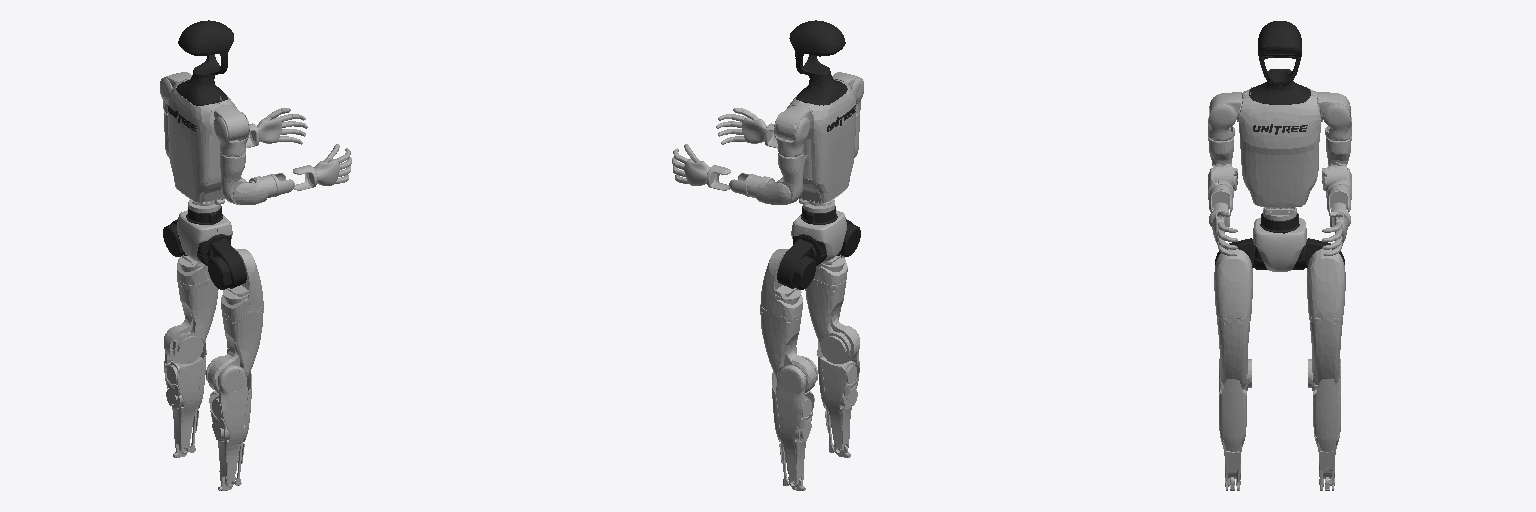
--- Render facts (derived) ---
Views: 3 orthographic renders of the robot side by side, from view 1: azimuth 30°, elevation 25°; view 2: azimuth 150°, elevation 25°; view 3: azimuth 270°, elevation 25°.
Model g1_29dof_rev_1_0 with 39 links and 38 joints (29 revolute, 9 fixed), rooted at base_link, posed all joints at 0.
Visible links, largest first — view 1: torso_link, leg_r4_link, head_link, leg_l4_link, leg_l3_link, leg_r3_link, leg_r2_link, leg_r1_link, pelvis_contour_link, left_rubber_hand, right_rubber_hand, arm_r4_link (+5 smaller); view 2: torso_link, leg_l4_link, head_link, leg_r4_link, leg_r3_link, leg_l3_link, leg_l2_link, leg_l1_link, pelvis_contour_link, right_rubber_hand, left_rubber_hand, arm_l4_link (+5 smaller); view 3: torso_link, head_link, leg_r2_link, leg_l2_link, leg_l4_link, leg_r4_link, leg_l3_link, leg_r3_link, pelvis_contour_link, arm_r3_link, arm_l3_link, arm_l2_link (+4 smaller).
Boxes of the visible links, x1,y1,x2,y2 form: torso_link: [168, 79, 236, 203]; leg_r4_link: [209, 365, 251, 487]; head_link: [176, 20, 233, 105]; leg_l4_link: [164, 326, 206, 453]; leg_l3_link: [164, 278, 218, 363]; leg_r3_link: [205, 306, 263, 392]; leg_r2_link: [221, 248, 263, 317]; leg_r1_link: [207, 239, 246, 289]; pelvis_contour_link: [177, 210, 232, 262]; left_rubber_hand: [257, 108, 307, 144]; right_rubber_hand: [313, 144, 351, 185]; arm_r4_link: [233, 175, 276, 204]; torso_link: [787, 79, 855, 203]; leg_l4_link: [772, 365, 814, 487]; head_link: [789, 20, 847, 105]; leg_r4_link: [817, 326, 859, 453]; leg_r3_link: [805, 278, 859, 363]; leg_l3_link: [760, 304, 817, 392]; leg_l2_link: [760, 249, 802, 317]; leg_l1_link: [777, 239, 816, 289]; pelvis_contour_link: [791, 210, 846, 262]; right_rubber_hand: [716, 108, 766, 144]; left_rubber_hand: [672, 144, 710, 185]; arm_l4_link: [747, 175, 790, 204]; torso_link: [1237, 87, 1322, 207]; head_link: [1249, 21, 1310, 104]; leg_r2_link: [1214, 249, 1252, 318]; leg_l2_link: [1307, 249, 1345, 318]; leg_l4_link: [1313, 359, 1340, 490]; leg_r4_link: [1219, 359, 1246, 490]; leg_l3_link: [1308, 316, 1342, 390]; leg_r3_link: [1217, 316, 1251, 390]; pelvis_contour_link: [1253, 218, 1306, 271]; arm_r3_link: [1208, 137, 1237, 190]; arm_l3_link: [1322, 136, 1351, 190]; arm_l2_link: [1323, 96, 1351, 140].
Size in the robot's own frame: 0.4457 by 0.3632 by 1.29 metres.
Meshes: 35 distinct files referenced, 30 mesh visuals loaded (30 binary STL); not drawn: 5 (reference not matched to a file when rendering).

robot.urdf — g1_29dof_rev_1_0:
<robot name="g1_29dof_rev_1_0">
  <mujoco>
    <compiler discardvisual="false"/>
  </mujoco>

  <!-- [CAUTION] uncomment when convert to mujoco -->
  <!-- <link name="world"></link>
  <joint name="floating_base_joint" type="floating">
    <parent link="world"/>
    <child link="base_link"/>
  </joint> -->

  <link name="base_link">
    <inertial>
      <origin xyz="0 0 -0.07605" rpy="0 0 0"/>
      <mass value="3.813"/>
      <inertia ixx="0.010549" ixy="0" ixz="2.1E-06" iyy="0.0093089" iyz="0" izz="0.0079184"/>
    </inertial>
    <visual>
      <origin xyz="0 0 0" rpy="0 0 0"/>
      <geometry>
        <mesh filename="pelvis.STL"/>
      </geometry>
      <material name="dark">
        <color rgba="0.2 0.2 0.2 1"/>
      </material>
    </visual>
  </link>
  <link name="pelvis_contour_link">
    <inertial>
      <origin xyz="0 0 0" rpy="0 0 0"/>
      <mass value="0.001"/>
      <inertia ixx="1e-7" ixy="0" ixz="0" iyy="1e-7" iyz="0" izz="1e-7"/>
    </inertial>
    <visual>
      <origin xyz="0 0 0" rpy="0 0 0"/>
      <geometry>
        <mesh filename="pelvis_contour_link.STL"/>
      </geometry>
      <material name="white">
        <color rgba="0.7 0.7 0.7 1"/>
      </material>
    </visual>
    <collision>
      <origin xyz="0 0 0" rpy="0 0 0"/>
      <geometry>
        <mesh filename="pelvis_contour_link.STL"/>
      </geometry>
    </collision>
  </link>
  <joint name="pelvis_contour_joint" type="fixed">
    <parent link="base_link"/>
    <child link="pelvis_contour_link"/>
  </joint>

  <!-- Legs -->
  <link name="leg_l1_link">
    <inertial>
      <origin xyz="0.002741 0.047791 -0.02606" rpy="0 0 0"/>
      <mass value="1.35"/>
      <inertia ixx="0.001811" ixy="3.68E-05" ixz="-3.44E-05" iyy="0.0014193" iyz="0.000171" izz="0.0012812"/>
    </inertial>
    <visual>
      <origin xyz="0 0 0" rpy="0 0 0"/>
      <geometry>
        <mesh filename="left_hip_pitch_link.STL"/>
      </geometry>
      <material name="dark">
        <color rgba="0.2 0.2 0.2 1"/>
      </material>
    </visual>
    <collision>
      <origin xyz="0 0 0" rpy="0 0 0"/>
      <geometry>
        <mesh filename="left_hip_pitch_link.STL"/>
      </geometry>
    </collision>
  </link>
  <joint name="leg_l1_joint" type="revolute">
    <origin xyz="0 0.064452 -0.1027" rpy="0 0 0"/>
    <parent link="base_link"/>
    <child link="leg_l1_link"/>
    <axis xyz="0 1 0"/>
    <limit lower="-2.5307" upper="2.8798" effort="88" velocity="32"/>
  </joint>
  <link name="leg_l2_link">
    <inertial>
      <origin xyz="0.029812 -0.001045 -0.087934" rpy="0 0 0"/>
      <mass value="1.52"/>
      <inertia ixx="0.0023773" ixy="-3.8E-06" ixz="-0.0003908" iyy="0.0024123" iyz="1.84E-05" izz="0.0016595"/>
    </inertial>
    <visual>
      <origin xyz="0 0 0" rpy="0 0 0"/>
      <geometry>
        <mesh filename="left_hip_roll_link.STL"/>
      </geometry>
      <material name="white">
        <color rgba="0.7 0.7 0.7 1"/>
      </material>
    </visual>
    <collision>
      <origin xyz="0 0 0" rpy="0 0 0"/>
      <geometry>
        <mesh filename="left_hip_roll_link.STL"/>
      </geometry>
    </collision>
  </link>
  <joint name="leg_l2_joint" type="revolute">
    <origin xyz="0 0.052 -0.030465" rpy="0 -0.1749 0"/>
    <parent link="leg_l1_link"/>
    <child link="leg_l2_link"/>
    <axis xyz="1 0 0"/>
    <limit lower="-0.5236" upper="2.9671" effort="139" velocity="20"/>
  </joint>
  <link name="leg_l3_link">
    <inertial>
      <origin xyz="-0.057709 -0.010981 -0.15078" rpy="0 0 0"/>
      <mass value="1.702"/>
      <inertia ixx="0.0057774" ixy="-0.0005411" ixz="-0.0023948" iyy="0.0076124" iyz="-0.0007072" izz="0.003149"/>
    </inertial>
    <visual>
      <origin xyz="0 0 0" rpy="0 0 0"/>
      <geometry>
        <mesh filename="left_hip_yaw_link.STL"/>
      </geometry>
      <material name="white">
        <color rgba="0.7 0.7 0.7 1"/>
      </material>
    </visual>
    <collision>
      <origin xyz="0 0 0" rpy="0 0 0"/>
      <geometry>
        <mesh filename="left_hip_yaw_link.STL"/>
      </geometry>
    </collision>
  </link>
  <joint name="leg_l3_joint" type="revolute">
    <origin xyz="0.025001 0 -0.12412" rpy="0 0 0"/>
    <parent link="leg_l2_link"/>
    <child link="leg_l3_link"/>
    <axis xyz="0 0 1"/>
    <limit lower="-2.7576" upper="2.7576" effort="88" velocity="32"/>
  </joint>
  <link name="leg_l4_link">
    <inertial>
      <origin xyz="0.005457 0.003964 -0.12074" rpy="0 0 0"/>
      <mass value="1.932"/>
      <inertia ixx="0.011329" ixy="4.82E-05" ixz="-4.49E-05" iyy="0.011277" iyz="-0.0007146" izz="0.0015168"/>
    </inertial>
    <visual>
      <origin xyz="0 0 0" rpy="0 0 0"/>
      <geometry>
        <mesh filename="left_knee_link.STL"/>
      </geometry>
      <material name="white">
        <color rgba="0.7 0.7 0.7 1"/>
      </material>
    </visual>
    <collision>
      <origin xyz="0 0 0" rpy="0 0 0"/>
      <geometry>
        <mesh filename="left_knee_link.STL"/>
      </geometry>
    </collision>
  </link>
  <joint name="leg_l4_joint" type="revolute">
    <origin xyz="-0.078273 0.0021489 -0.17734" rpy="0 0.1749 0"/>
    <parent link="leg_l3_link"/>
    <child link="leg_l4_link"/>
    <axis xyz="0 1 0"/>
    <limit lower="-0.087267" upper="2.8798" effort="139" velocity="20"/>
  </joint>
  <link name="leg_l5_link">
    <inertial>
      <origin xyz="-0.007269 0 0.011137" rpy="0 0 0"/>
      <mass value="0.074"/>
      <inertia ixx="8.4E-06" ixy="0" ixz="-2.9E-06" iyy="1.89E-05" iyz="0" izz="1.26E-05"/>
    </inertial>
    <visual>
      <origin xyz="0 0 0" rpy="0 0 0"/>
      <geometry>
        <mesh filename="left_ankle_pitch_link.STL"/>
      </geometry>
      <material name="white">
        <color rgba="0.7 0.7 0.7 1"/>
      </material>
    </visual>
    <collision>
      <origin xyz="0 0 0" rpy="0 0 0"/>
      <geometry>
        <mesh filename="left_ankle_pitch_link.STL"/>
      </geometry>
    </collision>
  </link>
  <joint name="leg_l5_joint" type="revolute">
    <origin xyz="0 -9.4445E-05 -0.30001" rpy="0 0 0"/>
    <parent link="leg_l4_link"/>
    <child link="leg_l5_link"/>
    <axis xyz="0 1 0"/>
    <limit lower="-0.87267" upper="0.5236" effort="50" velocity="37"/>
  </joint>
  <link name="leg_l6_link">
    <inertial>
      <origin xyz="0.026505 0 -0.016425" rpy="0 0 0"/>
      <mass value="0.608"/>
      <inertia ixx="0.0002231" ixy="2E-07" ixz="8.91E-05" iyy="0.0016161" iyz="-1E-07" izz="0.0016667"/>
    </inertial>
    <visual>
      <origin xyz="0 0 0" rpy="0 0 0"/>
      <geometry>
        <mesh filename="left_ankle_roll_link.STL"/>
      </geometry>
      <material name="dark">
        <color rgba="0.2 0.2 0.2 1"/>
      </material>
    </visual>
    <!-- <collision>
      <origin xyz="0 0 0" rpy="0 0 0"/>
      <geometry>
        <mesh filename="left_ankle_roll_link.STL"/>
      </geometry>
    </collision> -->
    <!-- <collision>
      <origin xyz="-0.05 0.025 -0.03" rpy="0 0 0"/>
      <geometry>
        <sphere radius="0.005"/>
      </geometry>
    </collision>
    <collision>
      <origin xyz="-0.05 -0.025 -0.03" rpy="0 0 0"/>
      <geometry>
        <sphere radius="0.005"/>
      </geometry>
    </collision>
    <collision>
      <origin xyz="0.12 0.03 -0.03" rpy="0 0 0"/>
      <geometry>
        <sphere radius="0.005"/>
      </geometry>
    </collision>
    <collision>
      <origin xyz="0.12 -0.03 -0.03" rpy="0 0 0"/>
      <geometry>
        <sphere radius="0.005"/>
      </geometry>
    </collision> -->

    <!--  HoST collision-->
    <collision>
      <origin xyz="-0.05 0.025 -0.03" rpy="0 0 0"/>
      <geometry>
        <sphere radius="0.005"/>
      </geometry>
    </collision>
    <collision>
      <origin xyz="-0.05 -0.025 -0.03" rpy="0 0 0"/>
      <geometry>
        <sphere radius="0.005"/>
      </geometry>
    </collision>
    <collision>
      <origin xyz="0.12 0.03 -0.03" rpy="0 0 0"/>
      <geometry>
        <sphere radius="0.005"/>
      </geometry>
    </collision>
    <collision>
      <origin xyz="0.12 -0.03 -0.03" rpy="0 0 0"/>
      <geometry>
        <sphere radius="0.005"/>
      </geometry>
    </collision>
    <collision>
      <origin xyz="0.05 -0.035 -0.03" rpy="0 0 0"/>
      <geometry>
        <sphere radius="0.005"/>
      </geometry>
    </collision>
    <collision>
      <origin xyz="0.05 0.035 -0.03" rpy="0 0 0"/>
      <geometry>
        <sphere radius="0.005"/>
      </geometry>
    </collision>

    <collision>
      <origin xyz="0.14 -0.0 -0.03" rpy="0 0 0"/>
      <geometry>
        <sphere radius="0.005"/>
      </geometry>
    </collision>
    <collision>
      <origin xyz="-0.0625 -0.0 -0.03" rpy="0 0 0"/>
      <geometry>
        <sphere radius="0.005"/>
      </geometry>
    </collision>
    <collision>
      <origin xyz="0.1 -0.0 -0.01" rpy="0 0 0"/>
      <geometry>
        <sphere radius="0.005"/>
      </geometry>
    </collision>
  </link>
  <joint name="leg_l6_joint" type="revolute">
    <origin xyz="0 0 -0.017558" rpy="0 0 0"/>
    <parent link="leg_l5_link"/>
    <child link="leg_l6_link"/>
    <axis xyz="1 0 0"/>
    <limit lower="-0.2618" upper="0.2618" effort="50" velocity="37"/>
  </joint>
  <link name="leg_r1_link">
    <inertial>
      <origin xyz="0.002741 -0.047791 -0.02606" rpy="0 0 0"/>
      <mass value="1.35"/>
      <inertia ixx="0.001811" ixy="-3.68E-05" ixz="-3.44E-05" iyy="0.0014193" iyz="-0.000171" izz="0.0012812"/>
    </inertial>
    <visual>
      <origin xyz="0 0 0" rpy="0 0 0"/>
      <geometry>
        <mesh filename="right_hip_pitch_link.STL"/>
      </geometry>
      <material name="dark">
        <color rgba="0.2 0.2 0.2 1"/>
      </material>
    </visual>
    <collision>
      <origin xyz="0 0 0" rpy="0 0 0"/>
      <geometry>
        <mesh filename="right_hip_pitch_link.STL"/>
      </geometry>
    </collision>
  </link>
  <joint name="leg_r1_joint" type="revolute">
    <origin xyz="0 -0.064452 -0.1027" rpy="0 0 0"/>
    <parent link="base_link"/>
    <child link="leg_r1_link"/>
    <axis xyz="0 1 0"/>
    <limit lower="-2.5307" upper="2.8798" effort="88" velocity="32"/>
  </joint>
  <link name="leg_r2_link">
    <inertial>
      <origin xyz="0.029812 0.001045 -0.087934" rpy="0 0 0"/>
      <mass value="1.52"/>
      <inertia ixx="0.0023773" ixy="3.8E-06" ixz="-0.0003908" iyy="0.0024123" iyz="-1.84E-05" izz="0.0016595"/>
    </inertial>
    <visual>
      <origin xyz="0 0 0" rpy="0 0 0"/>
      <geometry>
        <mesh filename="right_hip_roll_link.STL"/>
      </geometry>
      <material name="white">
        <color rgba="0.7 0.7 0.7 1"/>
      </material>
    </visual>
    <collision>
      <origin xyz="0 0 0" rpy="0 0 0"/>
      <geometry>
        <mesh filename="right_hip_roll_link.STL"/>
      </geometry>
    </collision>
  </link>
  <joint name="leg_r2_joint" type="revolute">
    <origin xyz="0 -0.052 -0.030465" rpy="0 -0.1749 0"/>
    <parent link="leg_r1_link"/>
    <child link="leg_r2_link"/>
    <axis xyz="1 0 0"/>
    <limit lower="-2.9671" upper="0.5236" effort="139" velocity="20"/>
  </joint>
  <link name="leg_r3_link">
    <inertial>
      <origin xyz="-0.057709 0.010981 -0.15078" rpy="0 0 0"/>
      <mass value="1.702"/>
      <inertia ixx="0.0057774" ixy="0.0005411" ixz="-0.0023948" iyy="0.0076124" iyz="0.0007072" izz="0.003149"/>
    </inertial>
    <visual>
      <origin xyz="0 0 0" rpy="0 0 0"/>
      <geometry>
        <mesh filename="right_hip_yaw_link.STL"/>
      </geometry>
      <material name="white">
        <color rgba="0.7 0.7 0.7 1"/>
      </material>
    </visual>
    <collision>
      <origin xyz="0 0 0" rpy="0 0 0"/>
      <geometry>
        <mesh filename="right_hip_yaw_link.STL"/>
      </geometry>
    </collision>
  </link>
  <joint name="leg_r3_joint" type="revolute">
    <origin xyz="0.025001 0 -0.12412" rpy="0 0 0"/>
    <parent link="leg_r2_link"/>
    <child link="leg_r3_link"/>
    <axis xyz="0 0 1"/>
    <limit lower="-2.7576" upper="2.7576" effort="88" velocity="32"/>
  </joint>
  <link name="leg_r4_link">
    <inertial>
      <origin xyz="0.005457 -0.003964 -0.12074" rpy="0 0 0"/>
      <mass value="1.932"/>
      <inertia ixx="0.011329" ixy="-4.82E-05" ixz="4.49E-05" iyy="0.011277" iyz="0.0007146" izz="0.0015168"/>
    </inertial>
    <visual>
      <origin xyz="0 0 0" rpy="0 0 0"/>
      <geometry>
        <mesh filename="right_knee_link.STL"/>
      </geometry>
      <material name="white">
        <color rgba="0.7 0.7 0.7 1"/>
      </material>
    </visual>
    <collision>
      <origin xyz="0 0 0" rpy="0 0 0"/>
      <geometry>
        <mesh filename="right_knee_link.STL"/>
      </geometry>
    </collision>
  </link>
  <joint name="leg_r4_joint" type="revolute">
    <origin xyz="-0.078273 -0.0021489 -0.17734" rpy="0 0.1749 0"/>
    <parent link="leg_r3_link"/>
    <child link="leg_r4_link"/>
    <axis xyz="0 1 0"/>
    <limit lower="-0.087267" upper="2.8798" effort="139" velocity="20"/>
  </joint>
  <link name="leg_r5_link">
    <inertial>
      <origin xyz="-0.007269 0 0.011137" rpy="0 0 0"/>
      <mass value="0.074"/>
      <inertia ixx="8.4E-06" ixy="0" ixz="-2.9E-06" iyy="1.89E-05" iyz="0" izz="1.26E-05"/>
    </inertial>
    <visual>
      <origin xyz="0 0 0" rpy="0 0 0"/>
      <geometry>
        <mesh filename="right_ankle_pitch_link.STL"/>
      </geometry>
      <material name="white">
        <color rgba="0.7 0.7 0.7 1"/>
      </material>
    </visual>
    <collision>
      <origin xyz="0 0 0" rpy="0 0 0"/>
      <geometry>
        <mesh filename="right_ankle_pitch_link.STL"/>
      </geometry>
    </collision>
  </link>
  <joint name="leg_r5_joint" type="revolute">
    <origin xyz="0 9.4445E-05 -0.30001" rpy="0 0 0"/>
    <parent link="leg_r4_link"/>
    <child link="leg_r5_link"/>
    <axis xyz="0 1 0"/>
    <limit lower="-0.87267" upper="0.5236" effort="50" velocity="37"/>
  </joint>
  <link name="leg_r6_link">
    <inertial>
      <origin xyz="0.026505 0 -0.016425" rpy="0 0 0"/>
      <mass value="0.608"/>
      <inertia ixx="0.0002231" ixy="-2E-07" ixz="8.91E-05" iyy="0.0016161" iyz="1E-07" izz="0.0016667"/>
    </inertial>
    <visual>
      <origin xyz="0 0 0" rpy="0 0 0"/>
      <geometry>
        <mesh filename="right_ankle_roll_link.STL"/>
      </geometry>
      <material name="dark">
        <color rgba="0.2 0.2 0.2 1"/>
      </material>
    </visual>
    <!-- <collision>
      <origin xyz="0 0 0" rpy="0 0 0"/>
      <geometry>
        <mesh filename="right_ankle_roll_link.STL"/>
      </geometry>
    </collision> -->
    <!-- <collision>
      <origin xyz="-0.05 0.025 -0.03" rpy="0 0 0"/>
      <geometry>
        <sphere radius="0.005"/>
      </geometry>
    </collision>
    <collision>
      <origin xyz="-0.05 -0.025 -0.03" rpy="0 0 0"/>
      <geometry>
        <sphere radius="0.005"/>
      </geometry>
    </collision>
    <collision>
      <origin xyz="0.12 0.03 -0.03" rpy="0 0 0"/>
      <geometry>
        <sphere radius="0.005"/>
      </geometry>
    </collision>
    <collision>
      <origin xyz="0.12 -0.03 -0.03" rpy="0 0 0"/>
      <geometry>
        <sphere radius="0.005"/>
      </geometry>
    </collision> -->

    <!-- HoST collision -->
    <collision>
      <origin xyz="-0.05 0.025 -0.03" rpy="0 0 0"/>
      <geometry>
        <sphere radius="0.005"/>
      </geometry>
    </collision>
    <collision>
      <origin xyz="-0.05 -0.025 -0.03" rpy="0 0 0"/>
      <geometry>
        <sphere radius="0.005"/>
      </geometry>
    </collision>
    <collision>
      <origin xyz="0.12 0.03 -0.03" rpy="0 0 0"/>
      <geometry>
        <sphere radius="0.005"/>
      </geometry>
    </collision>
    <collision>
      <origin xyz="0.12 -0.03 -0.03" rpy="0 0 0"/>
      <geometry>
        <sphere radius="0.005"/>
      </geometry>
    </collision>
    <collision>
      <origin xyz="0.05 -0.035 -0.03" rpy="0 0 0"/>
      <geometry>
        <sphere radius="0.005"/>
      </geometry>
    </collision>
    <collision>
      <origin xyz="0.05 0.035 -0.03" rpy="0 0 0"/>
      <geometry>
        <sphere radius="0.005"/>
      </geometry>
    </collision>

    <collision>
      <origin xyz="0.14 -0.0 -0.03" rpy="0 0 0"/>
      <geometry>
        <sphere radius="0.005"/>
      </geometry>
    </collision>
    <collision>
      <origin xyz="-0.0625 -0.0 -0.03" rpy="0 0 0"/>
      <geometry>
        <sphere radius="0.005"/>
      </geometry>
    </collision>
    <collision>
      <origin xyz="0.1 -0.0 -0.01" rpy="0 0 0"/>
      <geometry>
        <sphere radius="0.005"/>
      </geometry>
    </collision>
  </link>
  <joint name="leg_r6_joint" type="revolute">
    <origin xyz="0 0 -0.017558" rpy="0 0 0"/>
    <parent link="leg_r5_link"/>
    <child link="leg_r6_link"/>
    <axis xyz="1 0 0"/>
    <limit lower="-0.2618" upper="0.2618" effort="50" velocity="37"/>
  </joint>

  <!-- Torso -->
  <link name="waist_yaw_link">
    <inertial>
      <origin xyz="0.003494 0.000233 0.018034" rpy="0 0 0"/>
      <mass value="0.214"/>
      <inertia ixx="0.00010673" ixy="2.703E-06" ixz="-7.631E-06" iyy="0.00010422" iyz="-2.01E-07" izz="0.0001625"/>
    </inertial>
    <visual>
      <origin xyz="0 0 0" rpy="0 0 0"/>
      <geometry>
        <mesh filename="waist_yaw_link_rev_1_0.STL"/>
      </geometry>
      <material name="white">
        <color rgba="0.7 0.7 0.7 1"/>
      </material>
    </visual>
  </link>
  <joint name="waist_yaw_joint" type="revolute">
    <origin xyz="0 0 0" rpy="0 0 0"/>
    <parent link="base_link"/>
    <child link="waist_yaw_link"/>
    <axis xyz="0 0 1"/>
    <limit lower="-2.618" upper="2.618" effort="88" velocity="32"/>
  </joint>
  <link name="waist_roll_link">
    <inertial>
      <origin xyz="0 2.3E-05 0" rpy="0 0 0"/>
      <mass value="0.086"/>
      <inertia ixx="7.079E-06" ixy="0" ixz="0" iyy="6.339E-06" iyz="0" izz="8.245E-06"/>
    </inertial>
    <visual>
      <origin xyz="0 0 0" rpy="0 0 0"/>
      <geometry>
        <mesh filename="waist_roll_link_rev_1_0.STL"/>
      </geometry>
      <material name="white">
        <color rgba="0.7 0.7 0.7 1"/>
      </material>
    </visual>
  </link>
  <joint name="waist_roll_joint" type="revolute">
    <origin xyz="-0.0039635 0 0.044" rpy="0 0 0"/>
    <parent link="waist_yaw_link"/>
    <child link="waist_roll_link"/>
    <axis xyz="1 0 0"/>
    <limit lower="-0.52" upper="0.52" effort="50" velocity="37"/>
  </joint>
  <link name="torso_link">
    <inertial>
      <origin xyz="0.000931 0.000346 0.15082" rpy="0 0 0"/>
      <mass value="6.78"/>
      <inertia ixx="0.05905" ixy="3.3302E-05" ixz="-0.0017715" iyy="0.047014" iyz="-2.2399E-05" izz="0.025652"/>
    </inertial>
    <visual>
      <origin xyz="0 0 0" rpy="0 0 0"/>
      <geometry>
        <mesh filename="torso_link_rev_1_0.STL"/>
      </geometry>
      <material name="white">
        <color rgba="0.7 0.7 0.7 1"/>
      </material>
    </visual>
    <collision>
      <origin xyz="0 0 0" rpy="0 0 0"/>
      <geometry>
        <mesh filename="torso_link_rev_1_0.STL"/>
      </geometry>
    </collision>
  </link>
  <joint name="waist_pitch_joint" type="revolute">
    <origin xyz="0 0 0" rpy="0 0 0"/>
    <parent link="waist_roll_link"/>
    <child link="torso_link"/>
    <axis xyz="0 1 0"/>
    <limit lower="-0.52" upper="0.52" effort="50" velocity="37"/>
  </joint>

  <!-- LOGO -->
  <joint name="logo_joint" type="fixed">
    <origin xyz="0.0039635 0 -0.044" rpy="0 0 0"/>
    <parent link="torso_link"/>
    <child link="logo_link"/>
  </joint>
  <link name="logo_link">
    <inertial>
      <origin xyz="0 0 0" rpy="0 0 0"/>
      <mass value="0.001"/>
      <inertia ixx="1e-7" ixy="0" ixz="0" iyy="1e-7" iyz="0" izz="1e-7"/>
    </inertial>
    <visual>
      <origin xyz="0 0 0" rpy="0 0 0"/>
      <geometry>
        <mesh filename="logo_link.STL"/>
      </geometry>
      <material name="dark">
        <color rgba="0.2 0.2 0.2 1"/>
      </material>
    </visual>
    <collision>
      <origin xyz="0 0 0" rpy="0 0 0"/>
      <geometry>
        <mesh filename="logo_link.STL"/>
      </geometry>
    </collision>
  </link>

  <!-- Head -->
  <link name="head_link">
    <inertial>
      <origin xyz="0.005267 0.000299 0.449869" rpy="0 0 0"/>
      <mass value="1.036"/>
      <inertia ixx="0.004085051" ixy="-2.543E-06" ixz="-6.9455E-05" iyy="0.004185212" iyz="-3.726E-06" izz="0.001807911"/>
    </inertial>
    <visual>
      <origin xyz="0 0 0" rpy="0 0 0"/>
      <geometry>
        <mesh filename="head_link.STL"/>
      </geometry>
      <material name="dark">
        <color rgba="0.2 0.2 0.2 1"/>
      </material>
    </visual>
    <collision>
      <origin xyz="0 0 0" rpy="0 0 0"/>
      <geometry>
        <mesh filename="head_link.STL"/>
      </geometry>
    </collision>
  </link>
  <joint name="head_joint" type="fixed">
    <origin xyz="0.0039635 0 -0.044" rpy="0 0 0"/>
    <parent link="torso_link"/>
    <child link="head_link"/>
  </joint>


  <!-- IMU -->
  <link name="imu_in_torso"></link>
  <joint name="imu_in_torso_joint" type="fixed">
    <origin xyz="-0.03959 -0.00224 0.14792" rpy="0 0 0"/>
    <parent link="torso_link"/>
    <child link="imu_in_torso"/>
  </joint>

  <link name="imu_in_pelvis"></link>
  <joint name="imu_in_pelvis_joint" type="fixed">
    <origin xyz="0.04525 0 -0.08339" rpy="0 0 0"/>
    <parent link="base_link"/>
    <child link="imu_in_pelvis"/>
  </joint>

  <!-- d435 -->
  <link name="d435_link"></link>
  <joint name="d435_joint" type="fixed">
    <origin xyz="0.0576235 0.01753 0.42987" rpy="0 0.8307767239493009 0"/>
    <parent link="torso_link"/>
    <child link="d435_link"/>
  </joint>

  <!-- mid360 -->
  <link name="mid360_link"></link>
  <joint name="mid360_joint" type="fixed">
    <origin xyz="0.0002835 0.00003 0.41618" rpy="0 0.04014257279586953 0"/>
    <parent link="torso_link"/>
    <child link="mid360_link"/>
  </joint>

  <!-- Arm -->
  <link name="arm_l1_link">
    <inertial>
      <origin xyz="0 0.035892 -0.011628" rpy="0 0 0"/>
      <mass value="0.718"/>
      <inertia ixx="0.0004291" ixy="-9.2E-06" ixz="6.4E-06" iyy="0.000453" iyz="2.26E-05" izz="0.000423"/>
    </inertial>
    <visual>
      <origin xyz="0 0 0" rpy="0 0 0"/>
      <geometry>
        <mesh filename="left_shoulder_pitch_link.STL"/>
      </geometry>
      <material name="white">
        <color rgba="0.7 0.7 0.7 1"/>
      </material>
    </visual>
    <collision>
      <origin xyz="0 0.04 -0.01" rpy="0 1.5707963267948966 0"/>
      <geometry>
        <cylinder radius="0.03" length="0.05"/>
      </geometry>
    </collision>
  </link>
  <joint name="arm_l1_joint" type="revolute">
    <origin xyz="0.0039563 0.10022 0.24778" rpy="0.27931 5.4949E-05 -0.00019159"/>
    <parent link="torso_link"/>
    <child link="arm_l1_link"/>
    <axis xyz="0 1 0"/>
    <limit lower="-3.0892" upper="2.6704" effort="25" velocity="37"/>
  </joint>
  <link name="arm_l2_link">
    <inertial>
      <origin xyz="-0.000227 0.00727 -0.063243" rpy="0 0 0"/>
      <mass value="0.643"/>
      <inertia ixx="0.0006177" ixy="-1E-06" ixz="8.7E-06" iyy="0.0006912" iyz="-5.3E-06" izz="0.0003894"/>
    </inertial>
    <visual>
      <origin xyz="0 0 0" rpy="0 0 0"/>
      <geometry>
        <mesh filename="left_shoulder_roll_link.STL"/>
      </geometry>
      <material name="white">
        <color rgba="0.7 0.7 0.7 1"/>
      </material>
    </visual>
    <collision>
      <origin xyz="-0.004 0.006 -0.053" rpy="0 0 0"/>
      <geometry>
        <cylinder radius="0.03" length="0.03"/>
      </geometry>
    </collision>
  </link>
  <joint name="arm_l2_joint" type="revolute">
    <origin xyz="0 0.038 -0.013831" rpy="-0.27925 0 0"/>
    <parent link="arm_l1_link"/>
    <child link="arm_l2_link"/>
    <axis xyz="1 0 0"/>
    <limit lower="-0.2" upper="2.2515" effort="25" velocity="37"/>
  </joint>
  <link name="arm_l3_link">
    <inertial>
      <origin xyz="0.010773 -0.002949 -0.072009" rpy="0 0 0"/>
      <mass value="0.734"/>
      <inertia ixx="0.0009988" ixy="7.9E-06" ixz="0.0001412" iyy="0.0010605" iyz="-2.86E-05" izz="0.0004354"/>
    </inertial>
    <visual>
      <origin xyz="0 0 0" rpy="0 0 0"/>
      <geometry>
        <mesh filename="left_shoulder_yaw_link.STL"/>
      </geometry>
      <material name="white">
        <color rgba="0.7 0.7 0.7 1"/>
      </material>
    </visual>
    <collision>
      <origin xyz="0 0 0" rpy="0 0 0"/>
      <geometry>
        <mesh filename="left_shoulder_yaw_link.STL"/>
      </geometry>
    </collision>
  </link>
  <joint name="arm_l3_joint" type="revolute">
    <origin xyz="0 0.00624 -0.1032" rpy="0 0 0"/>
    <parent link="arm_l2_link"/>
    <child link="arm_l3_link"/>
    <axis xyz="0 0 1"/>
    <limit lower="-2.618" upper="2.618" effort="25" velocity="37"/>
  </joint>
  <link name="arm_l4_link">
    <inertial>
      <origin xyz="0.064956 0.004454 -0.010062" rpy="0 0 0"/>
      <mass value="0.6"/>
      <inertia ixx="0.0002891" ixy="6.53E-05" ixz="1.72E-05" iyy="0.0004152" iyz="-5.6E-06" izz="0.0004197"/>
    </inertial>
    <visual>
      <origin xyz="0 0 0" rpy="0 0 0"/>
      <geometry>
        <mesh filename="left_elbow_link.STL"/>
      </geometry>
      <material name="white">
        <color rgba="0.7 0.7 0.7 1"/>
      </material>
    </visual>
    <collision>
      <origin xyz="0 0 0" rpy="0 0 0"/>
      <geometry>
        <mesh filename="left_elbow_link.STL"/>
      </geometry>
    </collision>
  </link>
  <joint name="arm_l4_joint" type="revolute">
    <origin xyz="0.015783 0 -0.080518" rpy="0 0 0"/>
    <parent link="arm_l3_link"/>
    <child link="arm_l4_link"/>
    <axis xyz="0 1 0"/>
    <limit lower="-1.0472" upper="2.0944" effort="25" velocity="37"/>
  </joint>
  <joint name="arm_l5_joint" type="revolute">
    <origin xyz="0.100 0.00188791 -0.010" rpy="0 0 0"/>
    <axis xyz="1 0 0"/>
    <parent link="arm_l4_link"/>
    <child link="arm_l5_link"/>
    <limit effort="25" velocity="37" lower="-1.972222054" upper="1.972222054"/>
  </joint>
  <link name="arm_l5_link">
    <inertial>
      <origin xyz="0.01713944778 0.00053759094 0.00000048864" rpy="0 0 0"/>
      <mass value="0.08544498"/>
      <inertia ixx="0.00004821544023" ixy="-0.00000424511021" ixz="0.00000000510599" iyy="0.00003722899093" iyz="-0.00000000123525" izz="0.00005482106541"/>
    </inertial>
    <visual>
      <origin xyz="0 0 0" rpy="0 0 0"/>
      <geometry>
        <mesh filename="left_wrist_roll_link.STL"/>
      </geometry>
      <material name="white">
        <color rgba="0.7 0.7 0.7 1"/>
      </material>
    </visual>
    <collision>
      <origin xyz="0 0 0" rpy="0 0 0"/>
      <geometry>
        <mesh filename="left_wrist_roll_link.STL"/>
      </geometry>
    </collision>
  </link>
  <joint name="arm_l6_joint" type="revolute">
    <origin xyz="0.038 0 0" rpy="0 0 0"/>
    <axis xyz="0 1 0"/>
    <parent link="arm_l5_link"/>
    <child link="arm_l6_link"/>
    <limit effort="5" velocity="22" lower="-1.614429558" upper="1.614429558"/>
  </joint>
  <link name="arm_l6_link">
    <inertial>
      <origin xyz="0.02299989837 -0.00111685314 -0.00111658096" rpy="0 0 0"/>
      <mass value="0.48404956"/>
      <inertia ixx="0.00016579646273" ixy="-0.00001231206746" ixz="0.00001231699194" iyy="0.00042954057410" iyz="0.00000081417712" izz="0.00042953697654"/>
    </inertial>
    <visual>
      <origin xyz="0 0 0" rpy="0 0 0"/>
      <geometry>
        <mesh filename="left_wrist_pitch_link.STL"/>
      </geometry>
      <material name="white">
        <color rgba="0.7 0.7 0.7 1"/>
      </material>
    </visual>
    <collision>
      <origin xyz="0 0 0" rpy="0 0 0"/>
      <geometry>
        <mesh filename="left_wrist_pitch_link.STL"/>
      </geometry>
    </collision>
  </link>
  <joint name="arm_l7_joint" type="revolute">
    <origin xyz="0.046 0 0" rpy="0 0 0"/>
    <axis xyz="0 0 1"/>
    <parent link="arm_l6_link"/>
    <child link="arm_l7_link"/>
    <limit effort="5" velocity="22" lower="-1.614429558" upper="1.614429558"/>
  </joint>
  <link name="arm_l7_link">
    <inertial>
      <origin xyz="0.02200381568 0.00049485096 0.00053861123" rpy="0 0 0"/>
      <mass value="0.08457647"/>
      <inertia ixx="0.00004929128828" ixy="-0.00000045735494" ixz="0.00000445867591" iyy="0.00005973338134" iyz="0.00000043217198" izz="0.00003928083826"/>
    </inertial>
    <visual>
      <origin xyz="0 0 0" rpy="0 0 0"/>
      <geometry>
        <mesh filename="left_wrist_yaw_link.STL"/>
      </geometry>
      <material name="white">
        <color rgba="0.7 0.7 0.7 1"/>
      </material>
    </visual>
    <collision>
      <origin xyz="0 0 0" rpy="0 0 0"/>
      <geometry>
        <mesh filename="left_wrist_yaw_link.STL"/>
      </geometry>
    </collision>
  </link>
  <joint name="left_hand_palm_joint" type="fixed">
    <origin xyz="0.0415 0.003 0" rpy="0 0 0"/>
    <parent link="arm_l7_link"/>
    <child link="left_rubber_hand"/>
  </joint>
  <link name="left_rubber_hand">
    <inertial>
      <origin xyz="0.05361310808 -0.00295905240 0.00215413091" rpy="0 0 0"/>
      <mass value="0.170"/>
      <inertia ixx="0.00010099485234748" ixy="0.00003618590790516" ixz="-0.00000074301518642" iyy="0.00028135871571621" iyz="0.00000330189743286" izz="0.00021894770413514"/>
    </inertial>
    <visual>
      <origin xyz="0 0 0" rpy="0 0 0"/>
      <geometry>
        <mesh filename="left_rubber_hand.STL"/>
      </geometry>
      <material name="white">
        <color rgba="0.7 0.7 0.7 1"/>
      </material>
    </visual>
    <collision>
      <origin xyz="0 0 0" rpy="0 0 0"/>
      <geometry>
        <mesh filename="left_rubber_hand.STL"/>
      </geometry>
    </collision>
  </link>
  <link name="arm_r1_link">
    <inertial>
      <origin xyz="0 -0.035892 -0.011628" rpy="0 0 0"/>
      <mass value="0.718"/>
      <inertia ixx="0.0004291" ixy="9.2E-06" ixz="6.4E-06" iyy="0.000453" iyz="-2.26E-05" izz="0.000423"/>
    </inertial>
    <visual>
      <origin xyz="0 0 0" rpy="0 0 0"/>
      <geometry>
        <mesh filename="right_shoulder_pitch_link.STL"/>
      </geometry>
      <material name="white">
        <color rgba="0.7 0.7 0.7 1"/>
      </material>
    </visual>
    <collision>
      <origin xyz="0 -0.04 -0.01" rpy="0 1.5707963267948966 0"/>
      <geometry>
        <cylinder radius="0.03" length="0.05"/>
      </geometry>
    </collision>
  </link>
  <joint name="arm_r1_joint" type="revolute">
    <origin xyz="0.0039563 -0.10021 0.24778" rpy="-0.27931 5.4949E-05 0.00019159"/>
    <parent link="torso_link"/>
    <child link="arm_r1_link"/>
    <axis xyz="0 1 0"/>
    <limit lower="-3.0892" upper="2.6704" effort="25" velocity="37"/>
  </joint>
  <link name="arm_r2_link">
    <inertial>
      <origin xyz="-0.000227 -0.00727 -0.063243" rpy="0 0 0"/>
      <mass value="0.643"/>
      <inertia ixx="0.0006177" ixy="1E-06" ixz="8.7E-06" iyy="0.0006912" iyz="5.3E-06" izz="0.0003894"/>
    </inertial>
    <visual>
      <origin xyz="0 0 0" rpy="0 0 0"/>
      <geometry>
        <mesh filename="right_shoulder_roll_link.STL"/>
      </geometry>
      <material name="white">
        <color rgba="0.7 0.7 0.7 1"/>
      </material>
    </visual>
    <collision>
      <origin xyz="-0.004 -0.006 -0.053" rpy="0 0 0"/>
      <geometry>
        <cylinder radius="0.03" length="0.03"/>
      </geometry>
    </collision>
  </link>
  <joint name="arm_r2_joint" type="revolute">
    <origin xyz="0 -0.038 -0.013831" rpy="0.27925 0 0"/>
    <parent link="arm_r1_link"/>
    <child link="arm_r2_link"/>
    <axis xyz="1 0 0"/>
    <limit lower="-2.2515" upper="0.2" effort="25" velocity="37"/>
  </joint>
  <link name="arm_r3_link">
    <inertial>
      <origin xyz="0.010773 0.002949 -0.072009" rpy="0 0 0"/>
      <mass value="0.734"/>
      <inertia ixx="0.0009988" ixy="-7.9E-06" ixz="0.0001412" iyy="0.0010605" iyz="2.86E-05" izz="0.0004354"/>
    </inertial>
    <visual>
      <origin xyz="0 0 0" rpy="0 0 0"/>
      <geometry>
        <mesh filename="right_shoulder_yaw_link.STL"/>
      </geometry>
      <material name="white">
        <color rgba="0.7 0.7 0.7 1"/>
      </material>
    </visual>
    <collision>
      <origin xyz="0 0 0" rpy="0 0 0"/>
      <geometry>
        <mesh filename="right_shoulder_yaw_link.STL"/>
      </geometry>
    </collision>
  </link>
  <joint name="arm_r3_joint" type="revolute">
    <origin xyz="0 -0.00624 -0.1032" rpy="0 0 0"/>
    <parent link="arm_r2_link"/>
    <child link="arm_r3_link"/>
    <axis xyz="0 0 1"/>
    <limit lower="-2.618" upper="2.618" effort="25" velocity="37"/>
  </joint>
  <link name="arm_r4_link">
    <inertial>
      <origin xyz="0.064956 -0.004454 -0.010062" rpy="0 0 0"/>
      <mass value="0.6"/>
      <inertia ixx="0.0002891" ixy="-6.53E-05" ixz="1.72E-05" iyy="0.0004152" iyz="5.6E-06" izz="0.0004197"/>
    </inertial>
    <visual>
      <origin xyz="0 0 0" rpy="0 0 0"/>
      <geometry>
        <mesh filename="right_elbow_link.STL"/>
      </geometry>
      <material name="white">
        <color rgba="0.7 0.7 0.7 1"/>
      </material>
    </visual>
    <collision>
      <origin xyz="0 0 0" rpy="0 0 0"/>
      <geometry>
        <mesh filename="right_elbow_link.STL"/>
      </geometry>
    </collision>
  </link>
  <joint name="arm_r4_joint" type="revolute">
    <origin xyz="0.015783 0 -0.080518" rpy="0 0 0"/>
    <parent link="arm_r3_link"/>
    <child link="arm_r4_link"/>
    <axis xyz="0 1 0"/>
    <limit lower="-1.0472" upper="2.0944" effort="25" velocity="37"/>
  </joint>
  <joint name="arm_r5_joint" type="revolute">
    <origin xyz="0.100 -0.00188791 -0.010" rpy="0 0 0"/>
    <axis xyz="1 0 0"/>
    <parent link="arm_r4_link"/>
    <child link="arm_r5_link"/>
    <limit effort="25" velocity="37" lower="-1.972222054" upper="1.972222054"/>
  </joint>
  <link name="arm_r5_link">
    <inertial>
      <origin xyz="0.01713944778 -0.00053759094 0.00000048864" rpy="0 0 0"/>
      <mass value="0.08544498"/>
      <inertia ixx="0.00004821544023" ixy="0.00000424511021" ixz="0.00000000510599" iyy="0.00003722899093" iyz="0.00000000123525" izz="0.00005482106541"/>
    </inertial>
    <visual>
      <origin xyz="0 0 0" rpy="0 0 0"/>
      <geometry>
        <mesh filename="right_wrist_roll_link.STL"/>
      </geometry>
      <material name="white">
        <color rgba="0.7 0.7 0.7 1"/>
      </material>
    </visual>
    <collision>
      <origin xyz="0 0 0" rpy="0 0 0"/>
      <geometry>
        <mesh filename="right_wrist_roll_link.STL"/>
      </geometry>
    </collision>
  </link>
  <joint name="arm_r6_joint" type="revolute">
    <origin xyz="0.038 0 0" rpy="0 0 0"/>
    <axis xyz="0 1 0"/>
    <parent link="arm_r5_link"/>
    <child link="arm_r6_link"/>
    <limit effort="5" velocity="22" lower="-1.614429558" upper="1.614429558"/>
  </joint>
  <link name="arm_r6_link">
    <inertial>
      <origin xyz="0.02299989837 0.00111685314 -0.00111658096" rpy="0 0 0"/>
      <mass value="0.48404956"/>
      <inertia ixx="0.00016579646273" ixy="0.00001231206746" ixz="0.00001231699194" iyy="0.00042954057410" iyz="-0.00000081417712" izz="0.00042953697654"/>
    </inertial>
    <visual>
      <origin xyz="0 0 0" rpy="0 0 0"/>
      <geometry>
        <mesh filename="right_wrist_pitch_link.STL"/>
      </geometry>
      <material name="white">
        <color rgba="0.7 0.7 0.7 1"/>
      </material>
    </visual>
    <collision>
      <origin xyz="0 0 0" rpy="0 0 0"/>
      <geometry>
        <mesh filename="right_wrist_pitch_link.STL"/>
      </geometry>
    </collision>
  </link>
  <joint name="arm_r7_joint" type="revolute">
    <origin xyz="0.046 0 0" rpy="0 0 0"/>
    <axis xyz="0 0 1"/>
    <parent link="arm_r6_link"/>
    <child link="arm_r7_link"/>
    <limit effort="5" velocity="22" lower="-1.614429558" upper="1.614429558"/>
  </joint>
  <link name="arm_r7_link">
    <inertial>
      <origin xyz="0.02200381568 -0.00049485096 0.00053861123" rpy="0 0 0"/>
      <mass value="0.08457647"/>
      <inertia ixx="0.00004929128828" ixy="0.00000045735494" ixz="0.00000445867591" iyy="0.00005973338134" iyz="-0.00000043217198" izz="0.00003928083826"/>
    </inertial>
    <visual>
      <origin xyz="0 0 0" rpy="0 0 0"/>
      <geometry>
        <mesh filename="right_wrist_yaw_link.STL"/>
      </geometry>
      <material name="white">
        <color rgba="0.7 0.7 0.7 1"/>
      </material>
    </visual>
    <collision>
      <origin xyz="0 0 0" rpy="0 0 0"/>
      <geometry>
        <mesh filename="right_wrist_yaw_link.STL"/>
      </geometry>
    </collision>
  </link>
  <joint name="right_hand_palm_joint" type="fixed">
    <origin xyz="0.0415 -0.003 0" rpy="0 0 0"/>
    <parent link="arm_r7_link"/>
    <child link="right_rubber_hand"/>
  </joint>
  <link name="right_rubber_hand">
    <inertial>
      <origin xyz="0.05361310808 0.00295905240 0.00215413091" rpy="0 0 0"/>
      <mass value="0.170"/>
      <inertia ixx="0.00010099485234748" ixy="-0.00003618590790516" ixz="-0.00000074301518642" iyy="0.00028135871571621" iyz="-0.00000330189743286" izz="0.00021894770413514"/>
    </inertial>
    <visual>
      <origin xyz="0 0 0" rpy="0 0 0"/>
      <geometry>
        <mesh filename="right_rubber_hand.STL"/>
      </geometry>
      <material name="white">
        <color rgba="0.7 0.7 0.7 1"/>
      </material>
    </visual>
    <collision>
      <origin xyz="0 0 0" rpy="0 0 0"/>
      <geometry>
        <mesh filename="right_rubber_hand.STL"/>
      </geometry>
    </collision>
  </link>
</robot>
